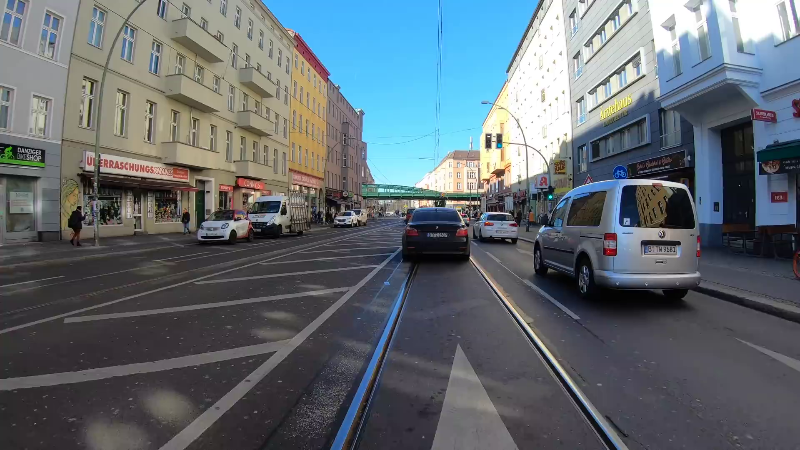Plate: (642, 242, 679, 255), (424, 230, 450, 238), (204, 231, 219, 236), (495, 230, 509, 234)
